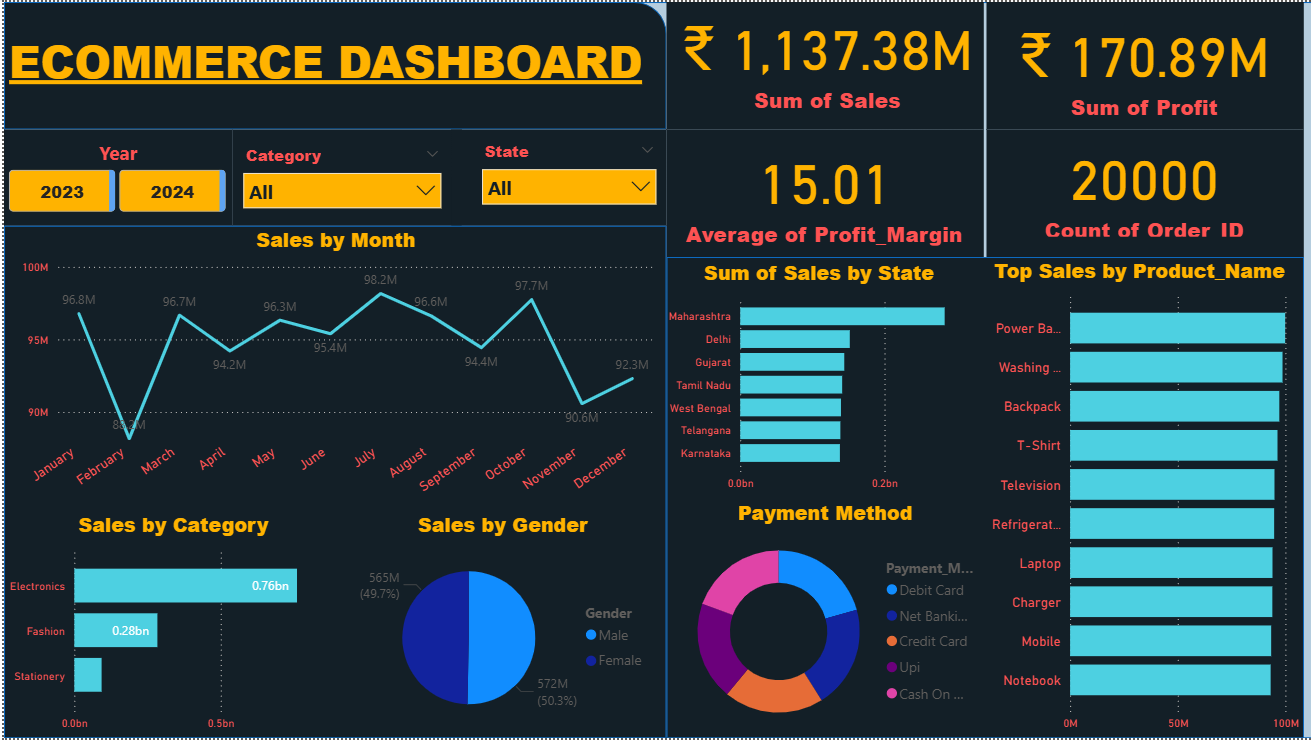

What the dashboard file says about the page in this screenshot:
{"tool":"powerbi","page":{"name":"DashBoard","canvas":[1280,720],"ordinal":0},"visuals":[{"type":"shape","box":[0,0,1280.3,720.2],"z":0},{"type":"shape","box":[0,0,648.1,124.7],"z":1000},{"type":"textbox","box":[0,22,639.5,88],"z":2000},{"type":"shape","box":[648.1,0,310.6,124.7],"z":3000},{"type":"card","fields":{"Values":["Sum(ecommerce orders_cleaned.Sales)"]},"box":[650.5,0,310.6,110.1],"z":4000},{"type":"shape","box":[961.1,124.7,310.6,124.7],"z":5000},{"type":"shape","box":[648.1,124.7,310.6,124.7],"z":6000},{"type":"shape","box":[961.1,0,310.6,124.7],"z":7000},{"type":"card","fields":{"Values":["Sum(ecommerce orders_cleaned.Profit)"]},"box":[969.7,7.3,292.3,110.1],"z":8000},{"type":"card","fields":{"Values":["Avg(ecommerce orders_cleaned.Profit_Margin)"]},"box":[655.4,129.6,294.7,113.7],"z":9000},{"type":"card","fields":{"Values":["CountNonNull(ecommerce orders_cleaned.Order_ID)"]},"box":[966,129.6,299.6,105.2],"z":10000},{"type":"shape","box":[0,124.7,223.8,94.2],"z":11000},{"type":"advancedSlicerVisual","fields":{"Values":["ecommerce orders_cleaned.Year"]},"box":[0,134.5,223.8,75.8],"z":12000},{"type":"shape","box":[223.8,124.7,223.8,94.2],"z":13000},{"type":"shape","box":[437.8,124.7,210.3,94.2],"z":14000},{"type":"slicer","fields":{"Values":["ecommerce orders_cleaned.Category"]},"box":[223.8,134.5,214,75.8],"z":15000},{"type":"slicer","fields":{"Values":["ecommerce orders_cleaned.State"]},"box":[457.3,130.8,190.8,83.2],"z":16000},{"type":"shape","box":[0,218.9,648.1,501.4],"z":17000},{"type":"shape","box":[648.1,249.5,623.6,470.8],"z":18000},{"type":"lineChart","title":"Sales by Month","fields":{"Y":["Sum(ecommerce orders_cleaned.Sales)"],"Category":["ecommerce orders_cleaned.Order_Date.Variation.Date Hierarchy.Month"]},"box":[9.8,218.9,629.8,278.8],"z":19000},{"type":"clusteredBarChart","title":"Sales by Category","fields":{"Category":["ecommerce orders_cleaned.Category"],"Y":["Sum(ecommerce orders_cleaned.Sales)"]},"box":[0,497.7,331.4,222.6],"z":19001},{"type":"pieChart","title":" Sales by Gender","fields":{"Category":["ecommerce orders_cleaned.Gender"],"Y":["Sum(ecommerce orders_cleaned.Sales)"]},"box":[336.3,497.7,303.3,222.6],"z":19002},{"type":"clusteredBarChart","title":"Top Sales by Product_Name","fields":{"Category":["ecommerce orders_cleaned.Product_Name"],"Y":["Sum(ecommerce orders_cleaned.Sales)"]},"box":[950.1,249.5,321.6,470.8],"z":19003},{"type":"clusteredBarChart","fields":{"Category":["ecommerce orders_cleaned.State"],"Y":["Sum(ecommerce orders_cleaned.Sales)"]},"box":[644.4,250.7,305.7,234.8],"z":19004},{"type":"donutChart","title":" Payment Method","fields":{"Category":["ecommerce orders_cleaned.Payment_Method"],"Y":["Sum(ecommerce orders_cleaned.Sales)"]},"box":[648.1,485.5,310.6,234.8],"z":19005}]}

Visuals, with their boxes in screenshot pixels (x1, y1, x2, y2), scaled from the page's 1280x720 canvas onto the 1311x741 screenshot:
shape: box=[0, 0, 1310, 740]
shape: box=[0, 0, 664, 128]
textbox: box=[0, 23, 655, 113]
shape: box=[664, 0, 982, 128]
card - Sum(ecommerce orders_cleaned.Sales): box=[666, 0, 984, 113]
shape: box=[984, 128, 1302, 257]
shape: box=[664, 128, 982, 257]
shape: box=[984, 0, 1302, 128]
card - Sum(ecommerce orders_cleaned.Profit): box=[993, 8, 1293, 121]
card - Avg(ecommerce orders_cleaned.Profit_Margin): box=[671, 133, 973, 250]
card - CountNonNull(ecommerce orders_cleaned.Order_ID): box=[989, 133, 1296, 242]
shape: box=[0, 128, 229, 225]
advancedSlicerVisual - ecommerce orders_cleaned.Year: box=[0, 138, 229, 216]
shape: box=[229, 128, 458, 225]
shape: box=[448, 128, 664, 225]
slicer - ecommerce orders_cleaned.Category: box=[229, 138, 448, 216]
slicer - ecommerce orders_cleaned.State: box=[468, 135, 664, 220]
shape: box=[0, 225, 664, 740]
shape: box=[664, 257, 1302, 740]
"Sales by Month" lineChart: box=[10, 225, 655, 512]
"Sales by Category" clusteredBarChart: box=[0, 512, 339, 740]
" Sales by Gender" pieChart: box=[344, 512, 655, 740]
"Top Sales by Product_Name" clusteredBarChart: box=[973, 257, 1302, 740]
clusteredBarChart - ecommerce orders_cleaned.State x Sum(ecommerce orders_cleaned.Sales): box=[660, 258, 973, 500]
" Payment Method" donutChart: box=[664, 500, 982, 740]
